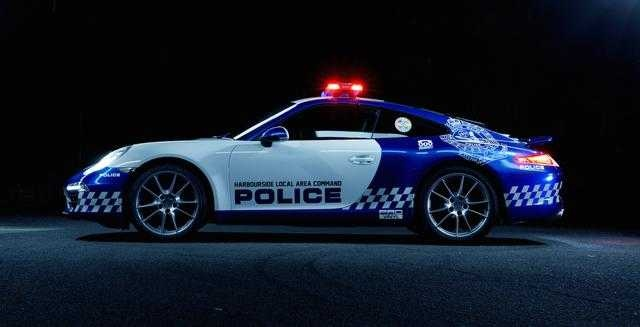Police Car: (62, 66, 590, 258)
